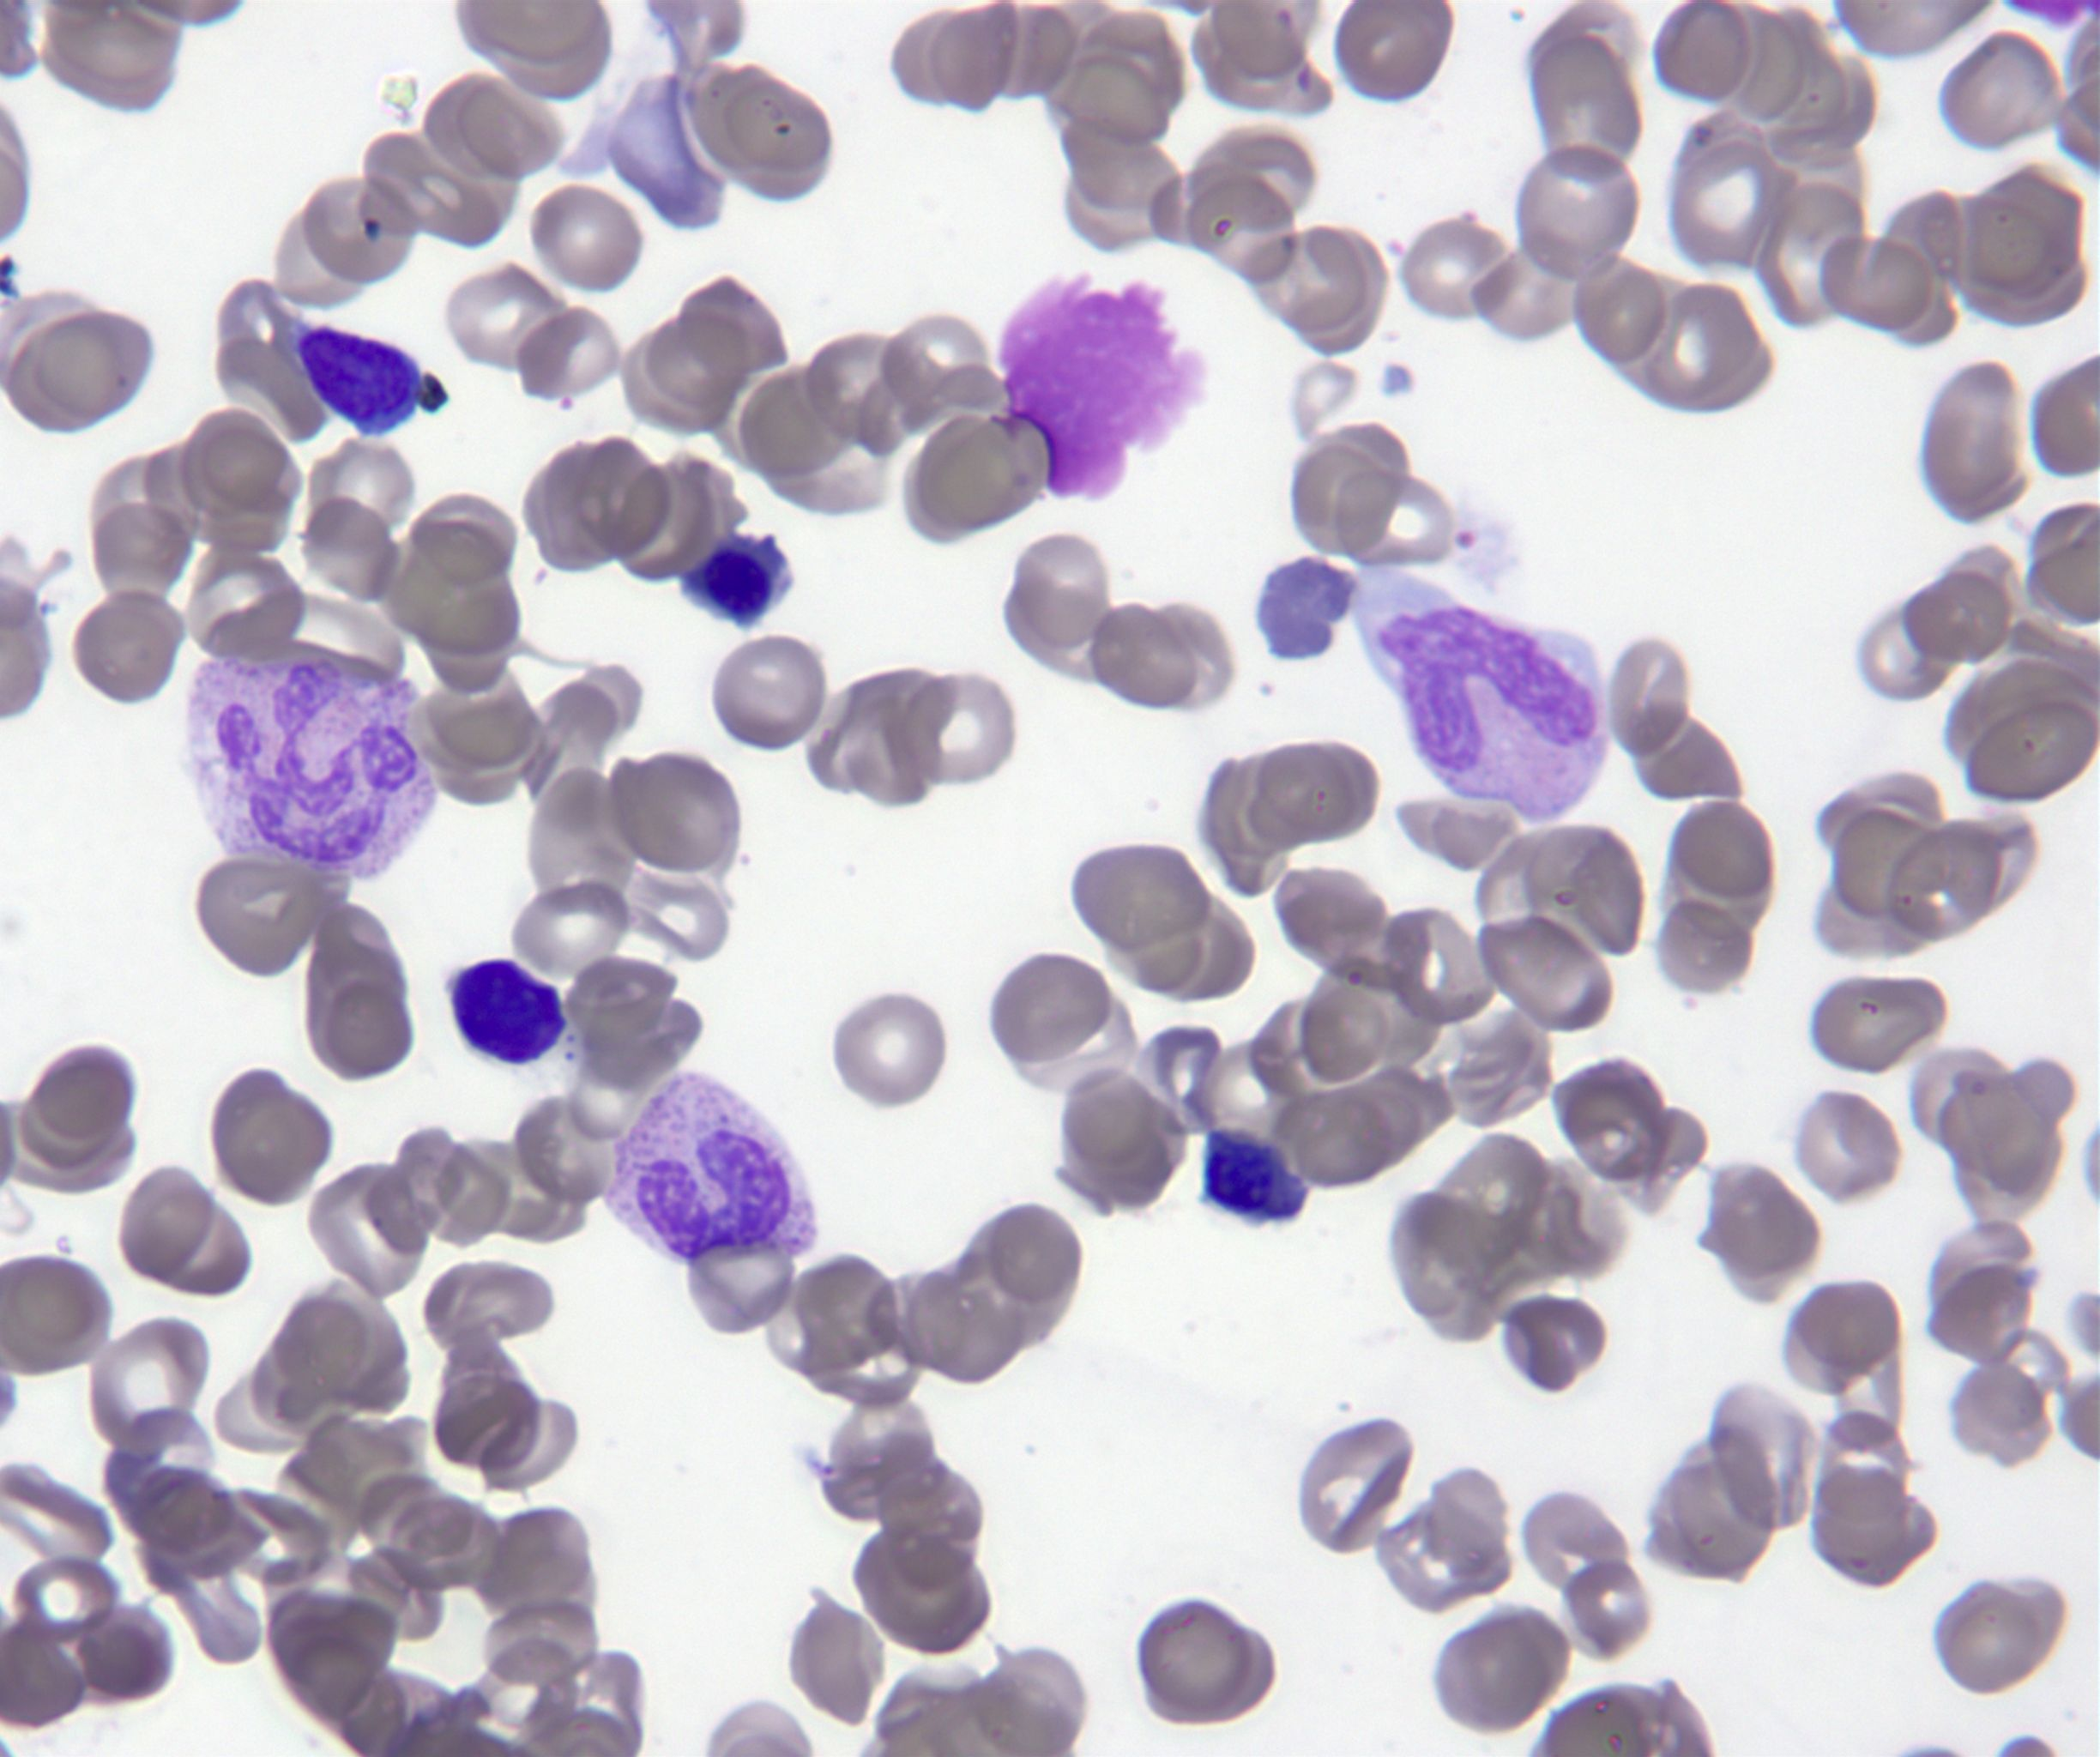24: (682, 532, 795, 630), (1202, 1127, 1310, 1225)
32: (298, 326, 453, 438), (447, 961, 567, 1064)
5: (1347, 562, 1610, 822), (602, 1071, 816, 1265)
6: (185, 646, 440, 883)
x: (994, 267, 1200, 497)
